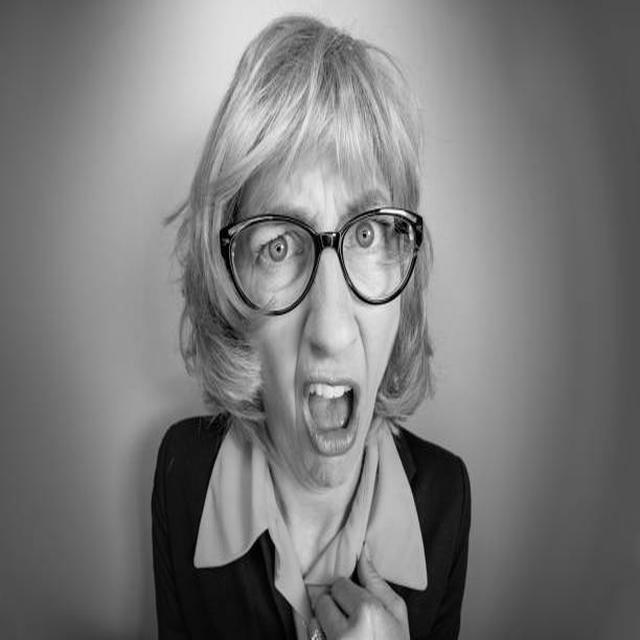Disgust: (233, 144, 404, 488)
